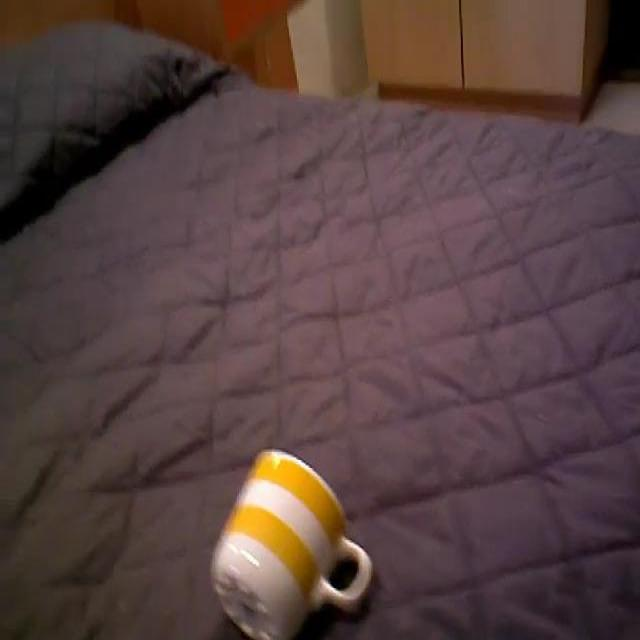cup: (211, 441, 371, 640)
